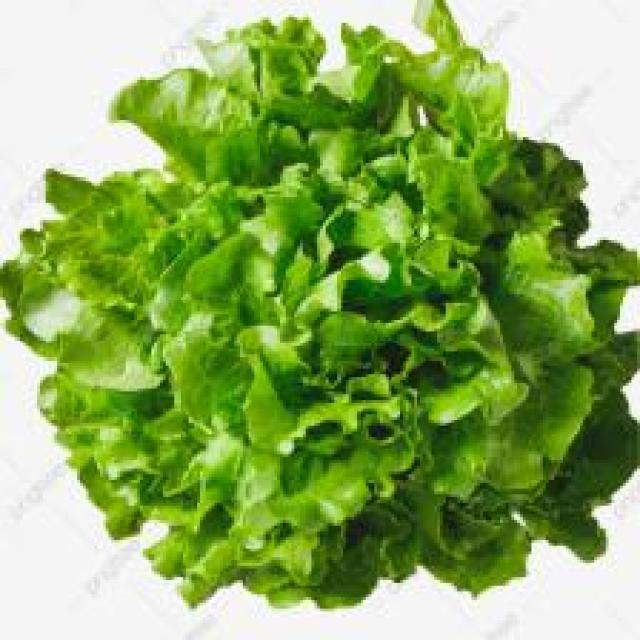Lettuce: (9, 5, 637, 611)
